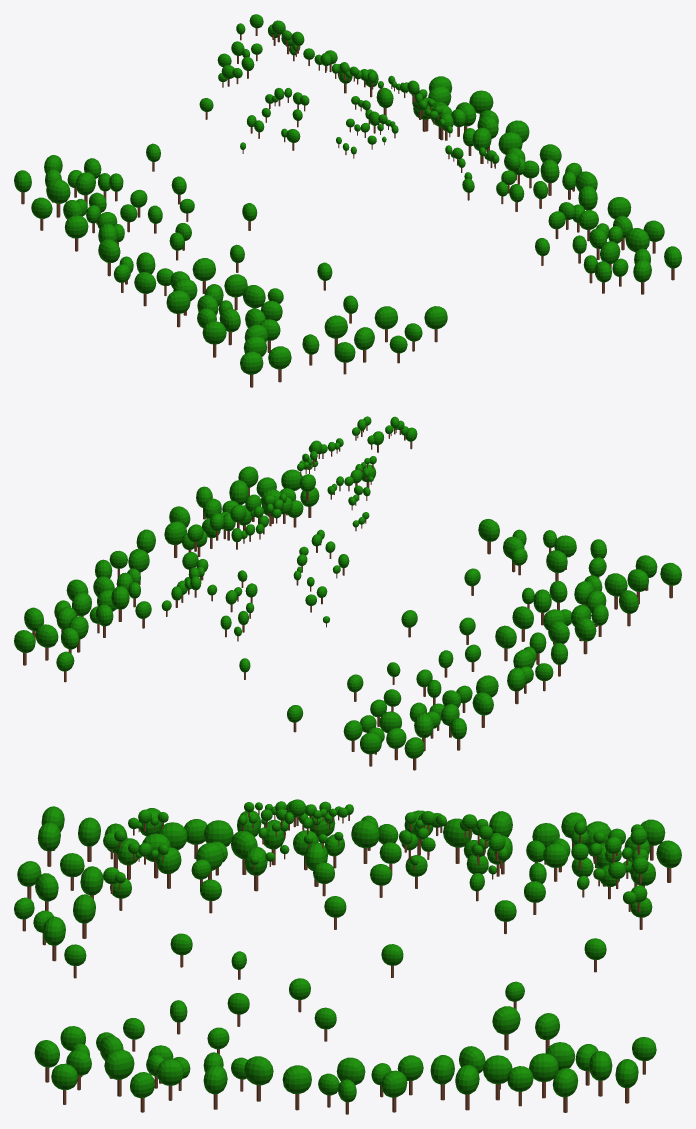
The model's file is all trees.fbx.
3 renders of one model, top to bottom at view 1: azimuth 30°, elevation 25°; view 2: azimuth 150°, elevation 25°; view 3: azimuth 270°, elevation 25°, orthographic. The views are drawn at different scales.
Visible parts, largest first — view 1: Cube.071; view 2: Cube.071; view 3: Cube.071.
Boxes of the visible parts, left/top/right/bottom form: Cube.071: left=14, top=14, right=681, bottom=387; Cube.071: left=14, top=416, right=681, bottom=770; Cube.071: left=14, top=799, right=681, bottom=1114.
Bounding box in the file's own units: 145 × 50.9 × 149.
1 material, 1 textured.
